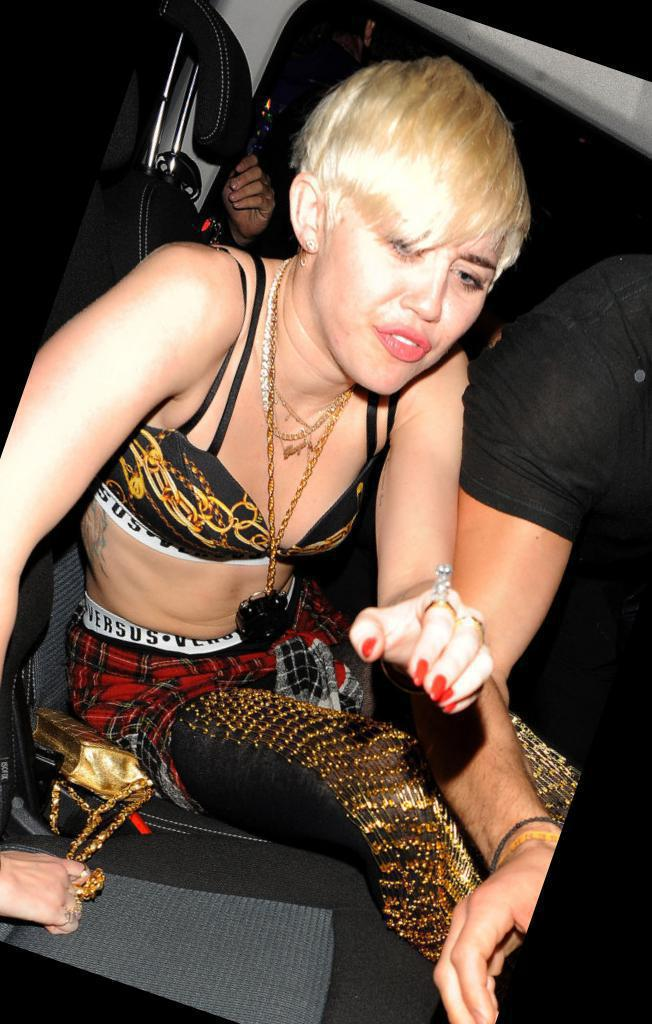Drunk: (337, 166, 479, 390)
